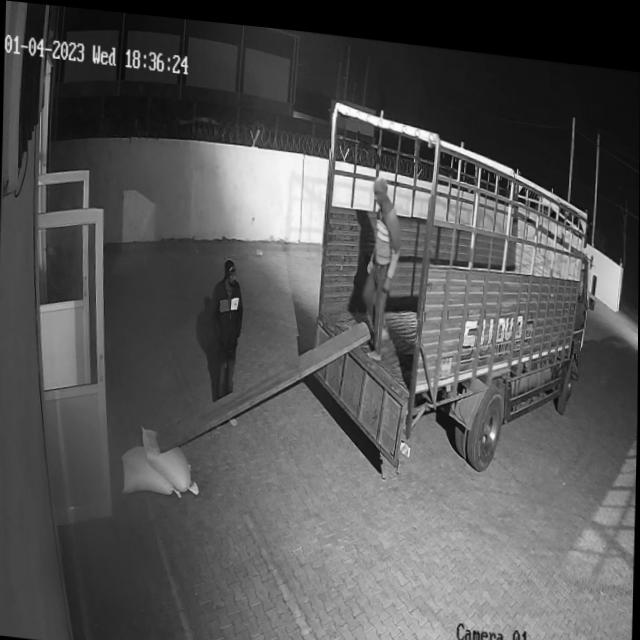sack: (140, 422, 202, 491), (122, 441, 182, 496)
